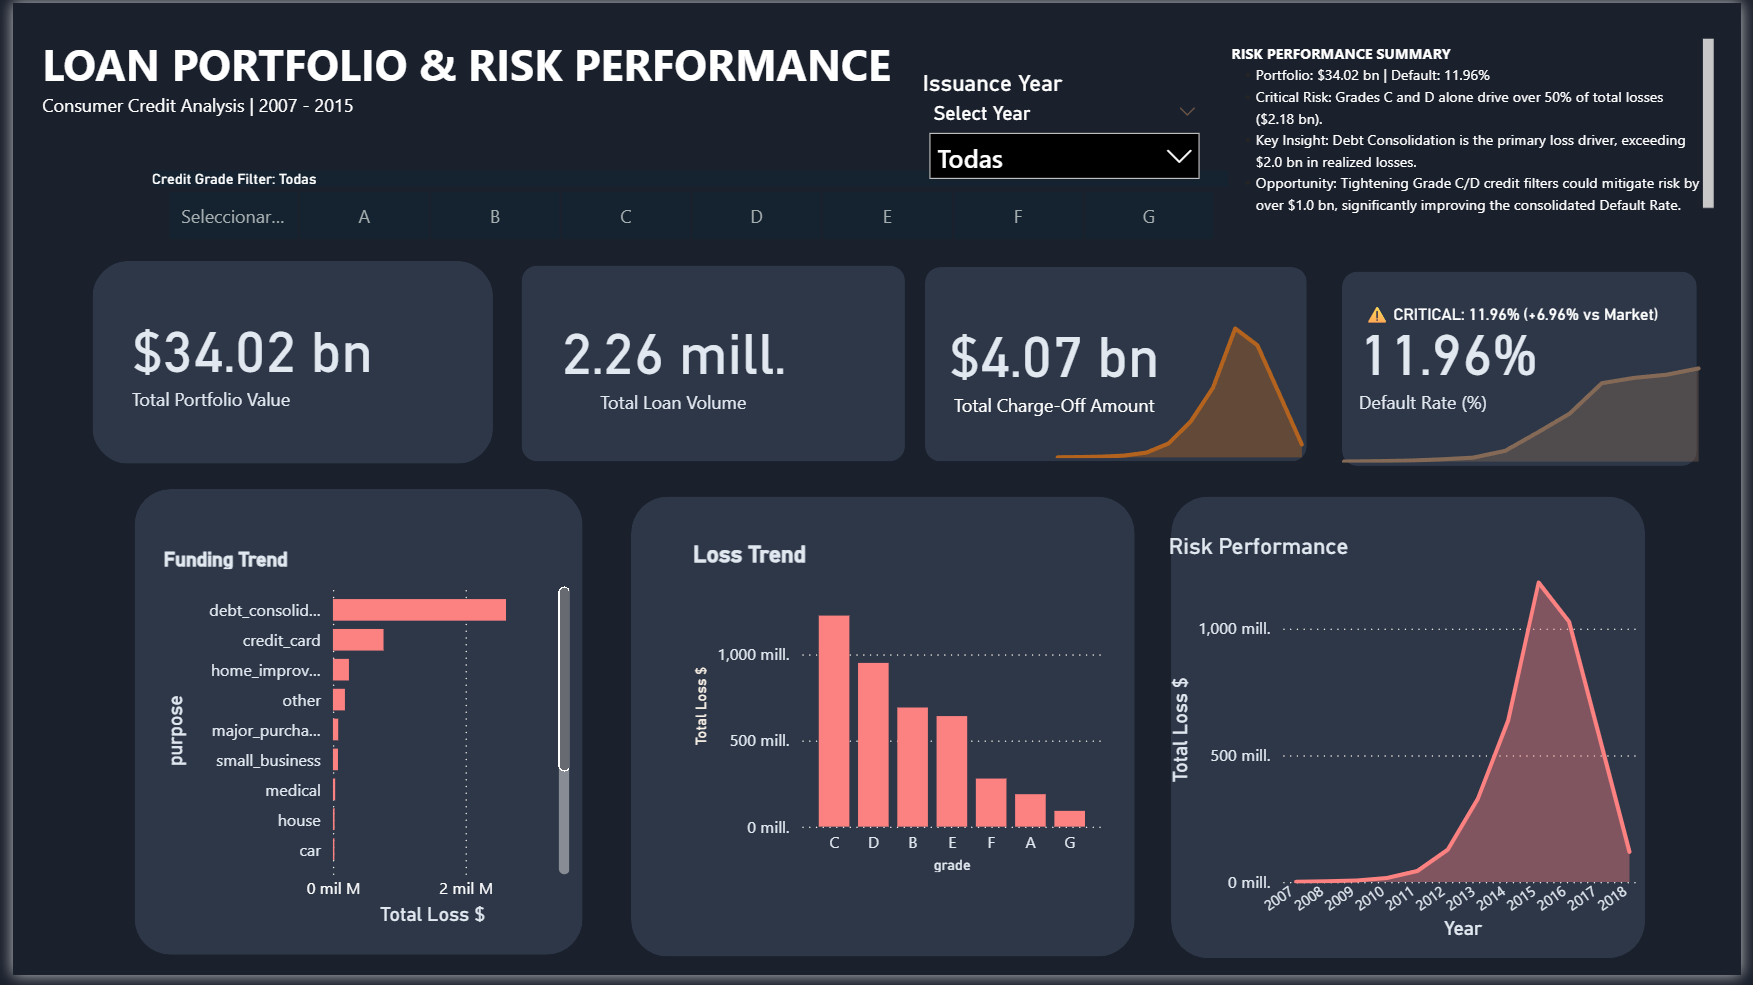

Layout of this report page (visuals, bound fields, positions):
{"tool":"powerbi","page":{"name":"Página 1","canvas":[1280,720],"ordinal":0},"visuals":[{"type":"textbox","box":[16.2,0,770,98.8],"z":0},{"type":"shape","box":[457.6,365.4,373.1,340.9],"z":0,"group":"g1"},{"type":"slicer","fields":{"Values":["public vw_loans_clean.grade"]},"box":[90,118.6,822.9,62.9],"z":1000},{"type":"shape","box":[984.6,199.5,263,144.1],"z":1000,"group":"g4"},{"type":"shape","box":[90,360,332,345],"z":1000,"group":"g1"},{"type":"slicer","title":"Issuance Year","fields":{"Values":["Calendar.Year"]},"box":[668.9,48.9,220,88.9],"z":2000},{"type":"shape","box":[376.4,194.4,284.2,145.2],"z":2000,"group":"g3"},{"type":"shape","box":[675.5,195.5,282.9,144.1],"z":2000,"group":"g4"},{"type":"shape","box":[857.4,365.7,351.2,342.1],"z":2000,"group":"g1"},{"type":"shape","box":[58.6,191.4,296.6,150.2],"z":3000,"group":"g3"},{"type":"group","id":"g1","title":"Grupo 1","box":[90,360,1121.1,347.8],"z":3000},{"type":"clusteredColumnChart","title":"Loss Trend","fields":{"Category":["public vw_loans_clean.grade"],"Y":["public vw_loans_clean.Total Loss"]},"box":[499.2,398.1,312.1,251],"z":3000,"group":"g1"},{"type":"group","id":"g2","title":"Grupo 4","box":[58.6,191.4,1221.4,155.7],"z":4000},{"type":"card","title":"Perdidas totales","fields":{"Values":["public vw_loans_clean.Label Loss"]},"box":[644.4,193.4,253,146.2],"z":4000,"group":"g3"},{"type":"clusteredBarChart","title":"Funding Trend","fields":{"Category":["public vw_loans_clean.purpose"],"Y":["public vw_loans_clean.Total Loss"]},"box":[107,402.9,310.4,283.7],"z":4000,"group":"g1"},{"type":"textbox","box":[897.8,21.1,366.7,154.4],"z":5000},{"type":"areaChart","title":"Perdidas totales por AÑO","fields":{"Category":["Calendar.Year"],"Y":["public vw_loans_clean.Total Loss"]},"box":[725.4,201.6,276.7,141.1],"z":5000,"group":"g3"},{"type":"areaChart","title":"Risk Performance","fields":{"Category":["Calendar.Year"],"Y":["public vw_loans_clean.Total Loss"]},"box":[850.9,391.9,360,305.6],"z":5000,"group":"g1"},{"type":"card","fields":{"Values":["CountNonNull(public vw_loans_clean.loan_status)"]},"box":[376.4,191.4,224.3,146.2],"z":6000,"group":"g3"},{"type":"group","id":"g3","title":"Grupo 2","box":[58.6,191.4,1221.4,154.3],"z":8000,"group":"g4"},{"type":"cardVisual","fields":{"Data":["public vw_loans_clean.Label Portfolio"]},"box":[58.6,201.6,254.3,134],"z":8000,"group":"g3"},{"type":"group","id":"g4","title":"Grupo 3","box":[58.6,191.4,1221.4,155.7],"z":8001,"group":"g2"},{"type":"cardVisual","fields":{"Data":["public vw_loans_clean.Loss % of Portfolio"]},"box":[967.8,205.7,207.3,129.2],"z":8501,"group":"g2"},{"type":"cardVisual","fields":{"Data":["public vw_loans_clean.Benchmark Info"]},"box":[972.2,200.5,307.8,56.8],"z":11000,"group":"g3"},{"type":"areaChart","fields":{"Y":["Sum(public vw_loans_clean.interest_rate)"],"Category":["Calendar.Year"]},"box":[946,238.1,316.6,107.6],"z":14000,"group":"g3"}]}

Visuals, with their boxes in screenshot pixels (x1, y1, x2, y2), scaled from the page's 1280x720 canvas onto the 1753x985 screenshot:
textbox: BBox(22, 0, 1077, 135)
shape: BBox(627, 500, 1138, 966)
slicer - public vw_loans_clean.grade: BBox(123, 162, 1250, 248)
shape: BBox(1348, 273, 1709, 470)
shape: BBox(123, 492, 578, 964)
"Issuance Year" slicer: BBox(916, 67, 1217, 189)
shape: BBox(515, 266, 905, 465)
shape: BBox(925, 267, 1313, 465)
shape: BBox(1174, 500, 1655, 968)
shape: BBox(80, 262, 486, 467)
"Grupo 1" group: BBox(123, 492, 1659, 968)
"Loss Trend" clusteredColumnChart: BBox(684, 545, 1111, 888)
"Grupo 4" group: BBox(80, 262, 1752, 475)
"Perdidas totales" card: BBox(883, 265, 1229, 465)
"Funding Trend" clusteredBarChart: BBox(147, 551, 572, 939)
textbox: BBox(1230, 29, 1732, 240)
"Perdidas totales por AÑO" areaChart: BBox(993, 276, 1372, 469)
"Risk Performance" areaChart: BBox(1165, 536, 1658, 954)
card - CountNonNull(public vw_loans_clean.loan_status): BBox(515, 262, 823, 462)
"Grupo 2" group: BBox(80, 262, 1752, 473)
cardVisual - public vw_loans_clean.Label Portfolio: BBox(80, 276, 429, 459)
"Grupo 3" group: BBox(80, 262, 1752, 475)
cardVisual - public vw_loans_clean.Loss % of Portfolio: BBox(1325, 281, 1609, 458)
cardVisual - public vw_loans_clean.Benchmark Info: BBox(1331, 274, 1752, 352)
areaChart - Sum(public vw_loans_clean.interest_rate) x Calendar.Year: BBox(1296, 326, 1729, 473)
